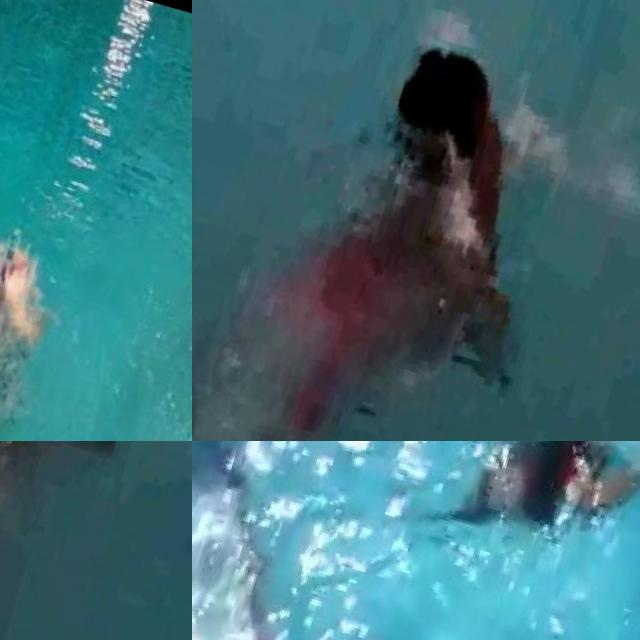drowning: (298, 0, 606, 412), (445, 441, 640, 598), (0, 441, 192, 550), (0, 212, 74, 392)
